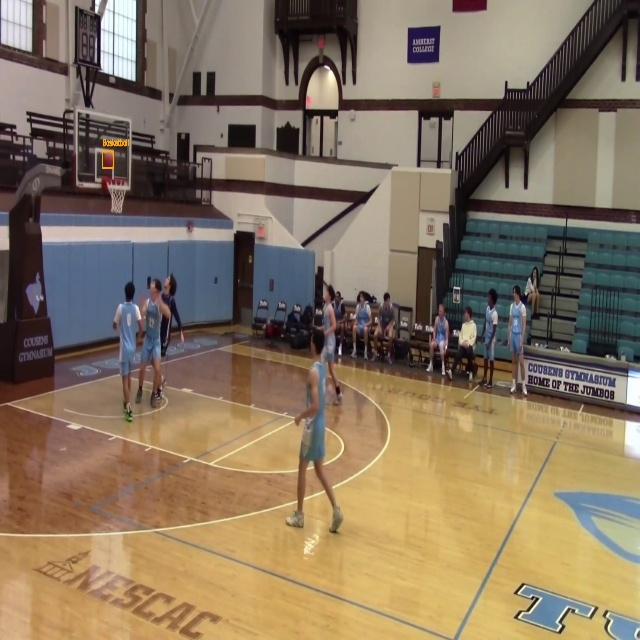Basketball: (103, 151, 114, 168)
